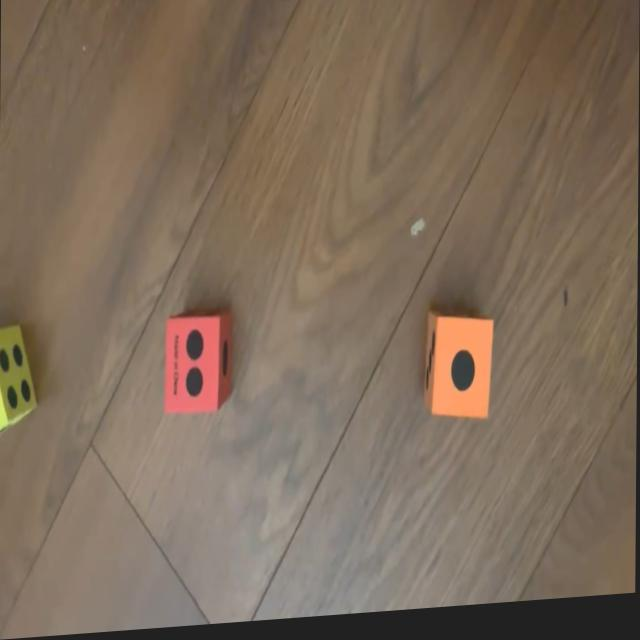cube: (162, 315, 234, 415)
